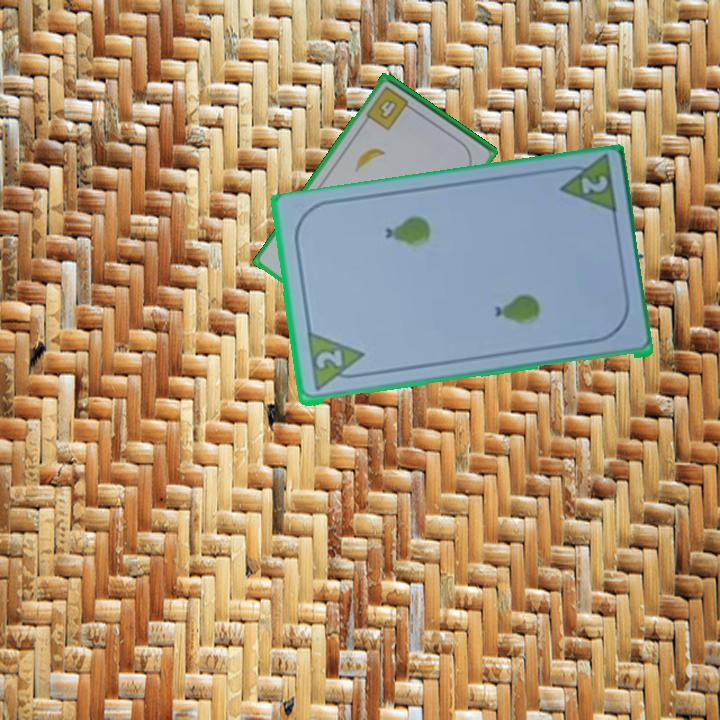2p: (552, 155, 619, 220), (312, 347, 345, 372)
4b: (362, 83, 417, 133)
